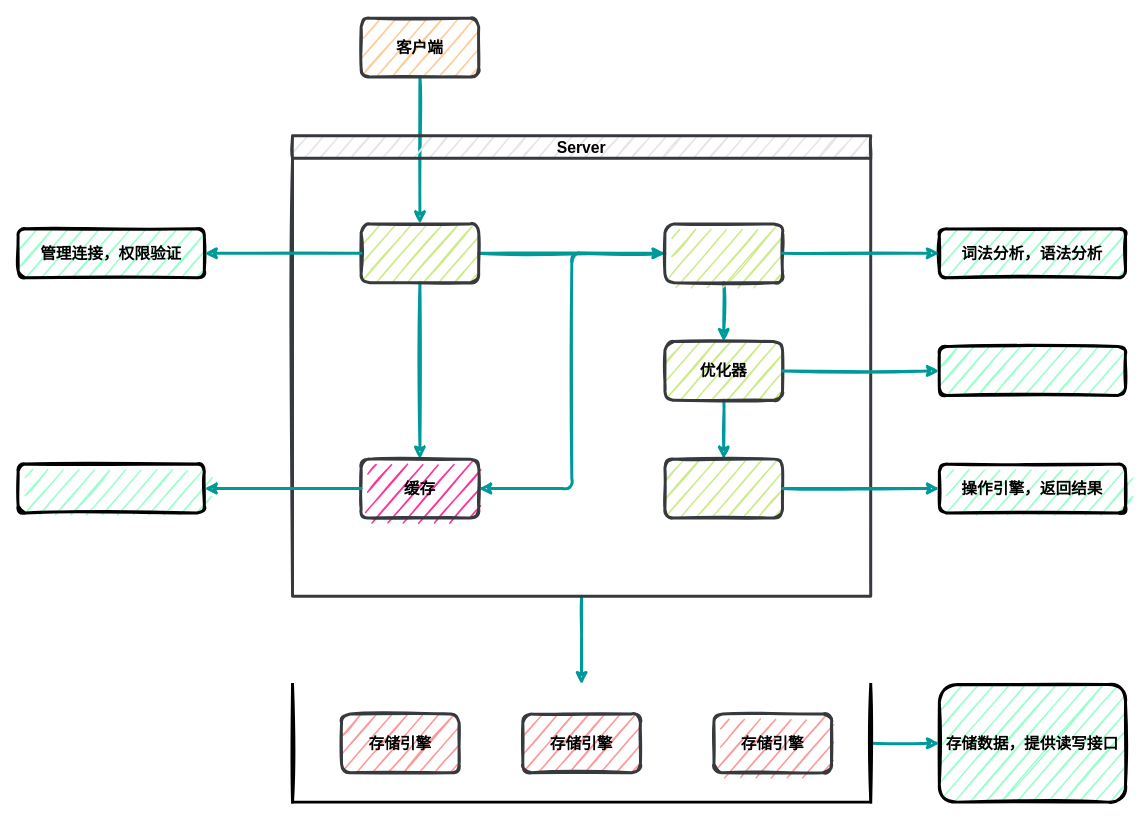
The diagram is 1144 pixels wide and 820 high, and some of its shapes have lost their labels. The box of each missing label's shape, as (x1, y1, x2, y2) in pixels:
分析器: (663, 222, 784, 284)
命中，直接返回结果: (16, 462, 205, 514)
执行器: (663, 457, 784, 519)
执行计划生成，索引选择: (937, 344, 1127, 396)
连接器: (359, 222, 480, 284)
